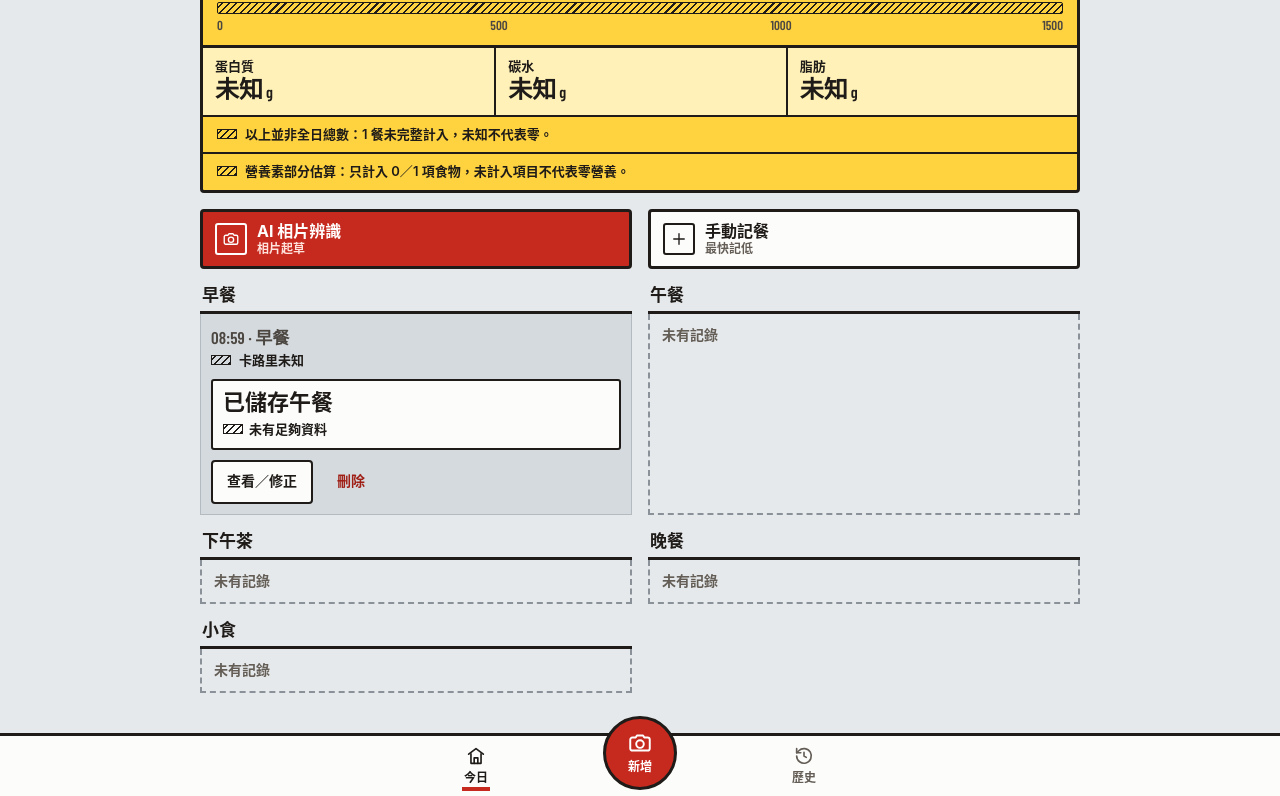
Test case: keeps an untouched saved meal clean even if background sync updates that record
(page scrolled)
What coordinates should you click on to do the following:
click the button "查看／修正"
I would click on:
 (262, 482)
Its box is [211,460,313,504].
(page scrolled)
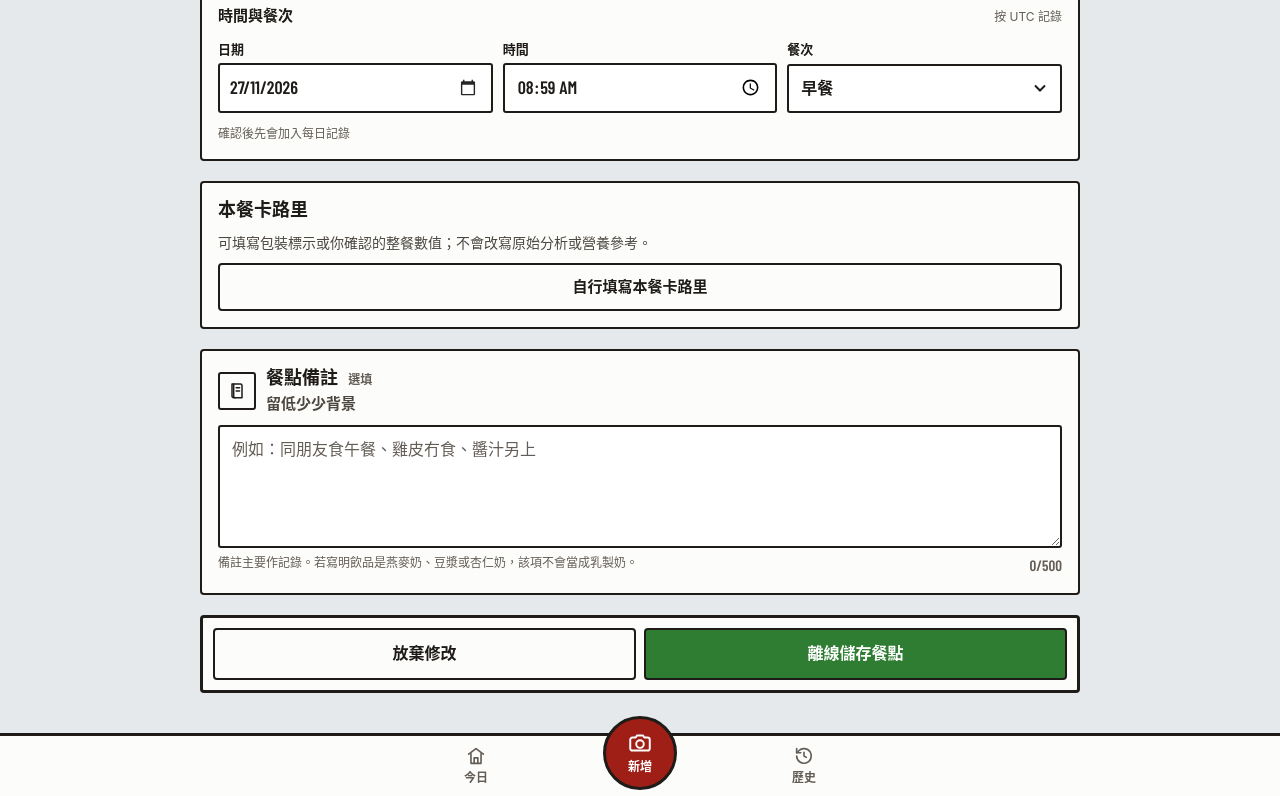
What coordinates should you click on to do the following:
click the button "今日"
I would click on:
 (476, 766)
Its box is [360,736,592,795].
(page scrolled)
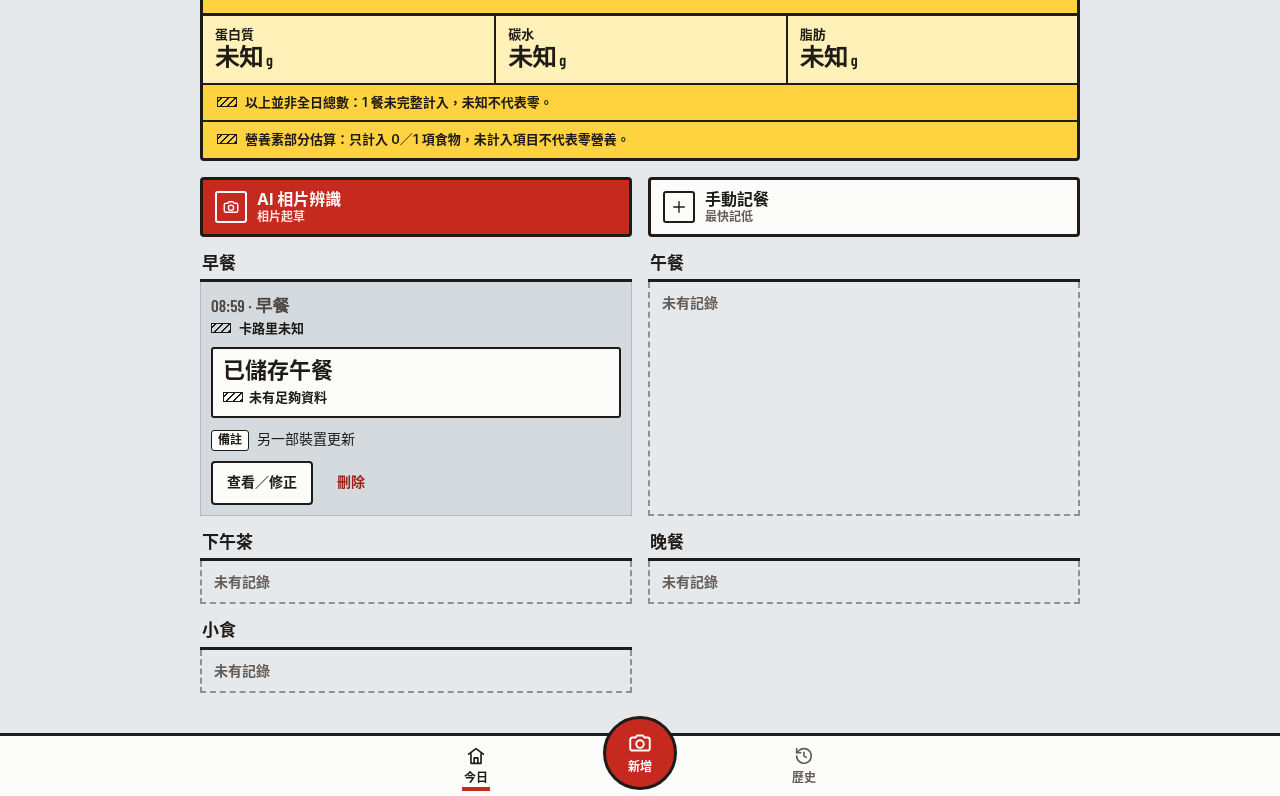
What coordinates should you click on to do the following:
click the button "新增"
I would click on:
 (640, 753)
Its box is [603,716,677,790].
(page scrolled)
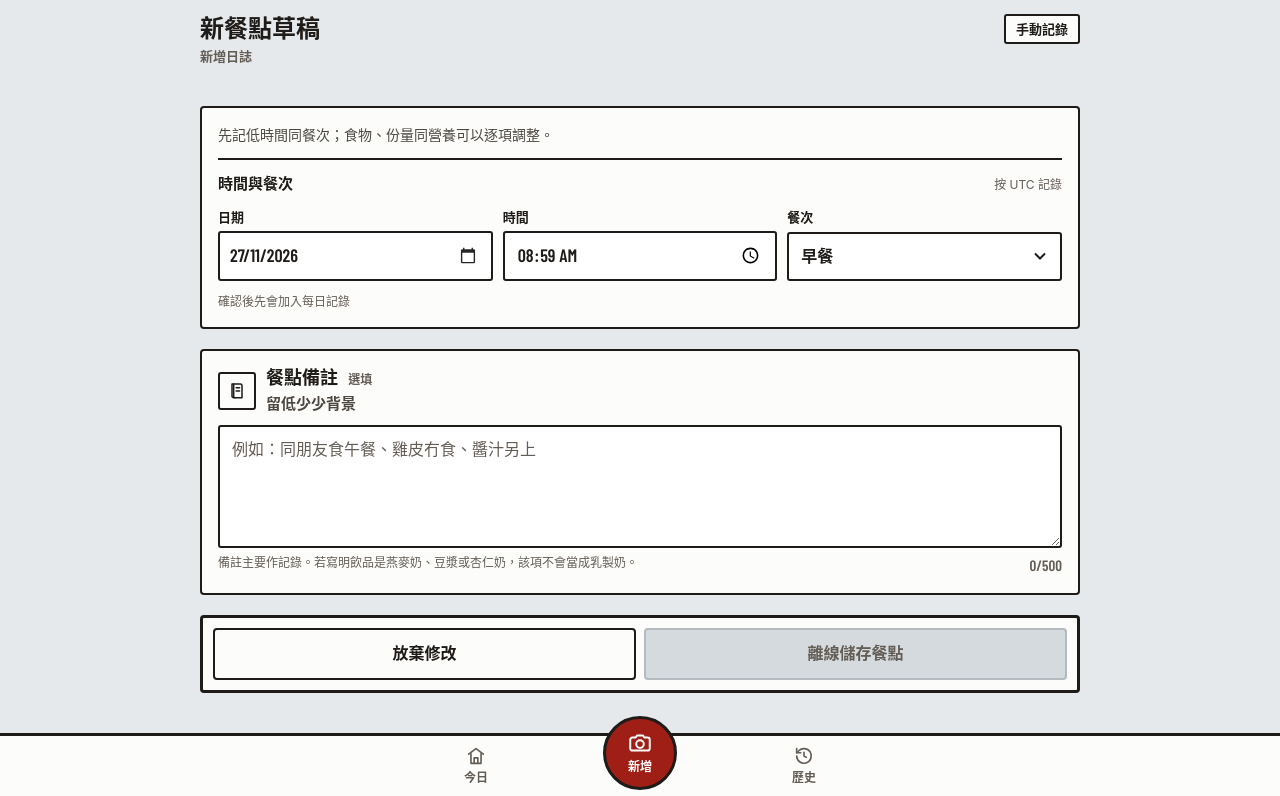
Expected: the heading "新餐點草稿" is shown, [200,14,320,44]
